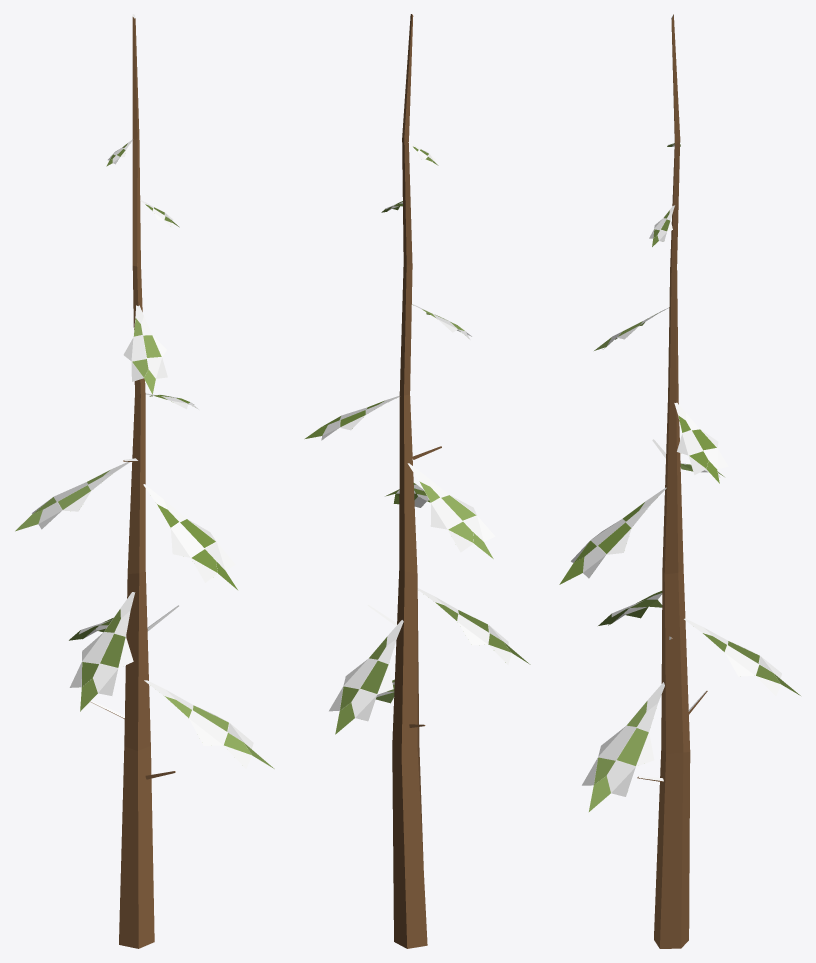
Rendered from Dead_Pine_Tree_l_Snow_03_LOD.fbx.
The picture shows the model from 3 angles, left to right: view 1: azimuth 30°, elevation 25°; view 2: azimuth 150°, elevation 25°; view 3: azimuth 270°, elevation 25°; orthographic projection.
Visible parts, largest first — view 1: Dead_Pine_Tree_l_Snow_03_LOD0; view 2: Dead_Pine_Tree_l_Snow_03_LOD0; view 3: Dead_Pine_Tree_l_Snow_03_LOD0.
Boxes of the visible parts, <box> form: Dead_Pine_Tree_l_Snow_03_LOD0: <box>15,14,274,948</box>; Dead_Pine_Tree_l_Snow_03_LOD0: <box>304,14,530,948</box>; Dead_Pine_Tree_l_Snow_03_LOD0: <box>559,14,800,948</box>.
Size of what is drawn, in the model's own units: 438 by 1935 by 459.
